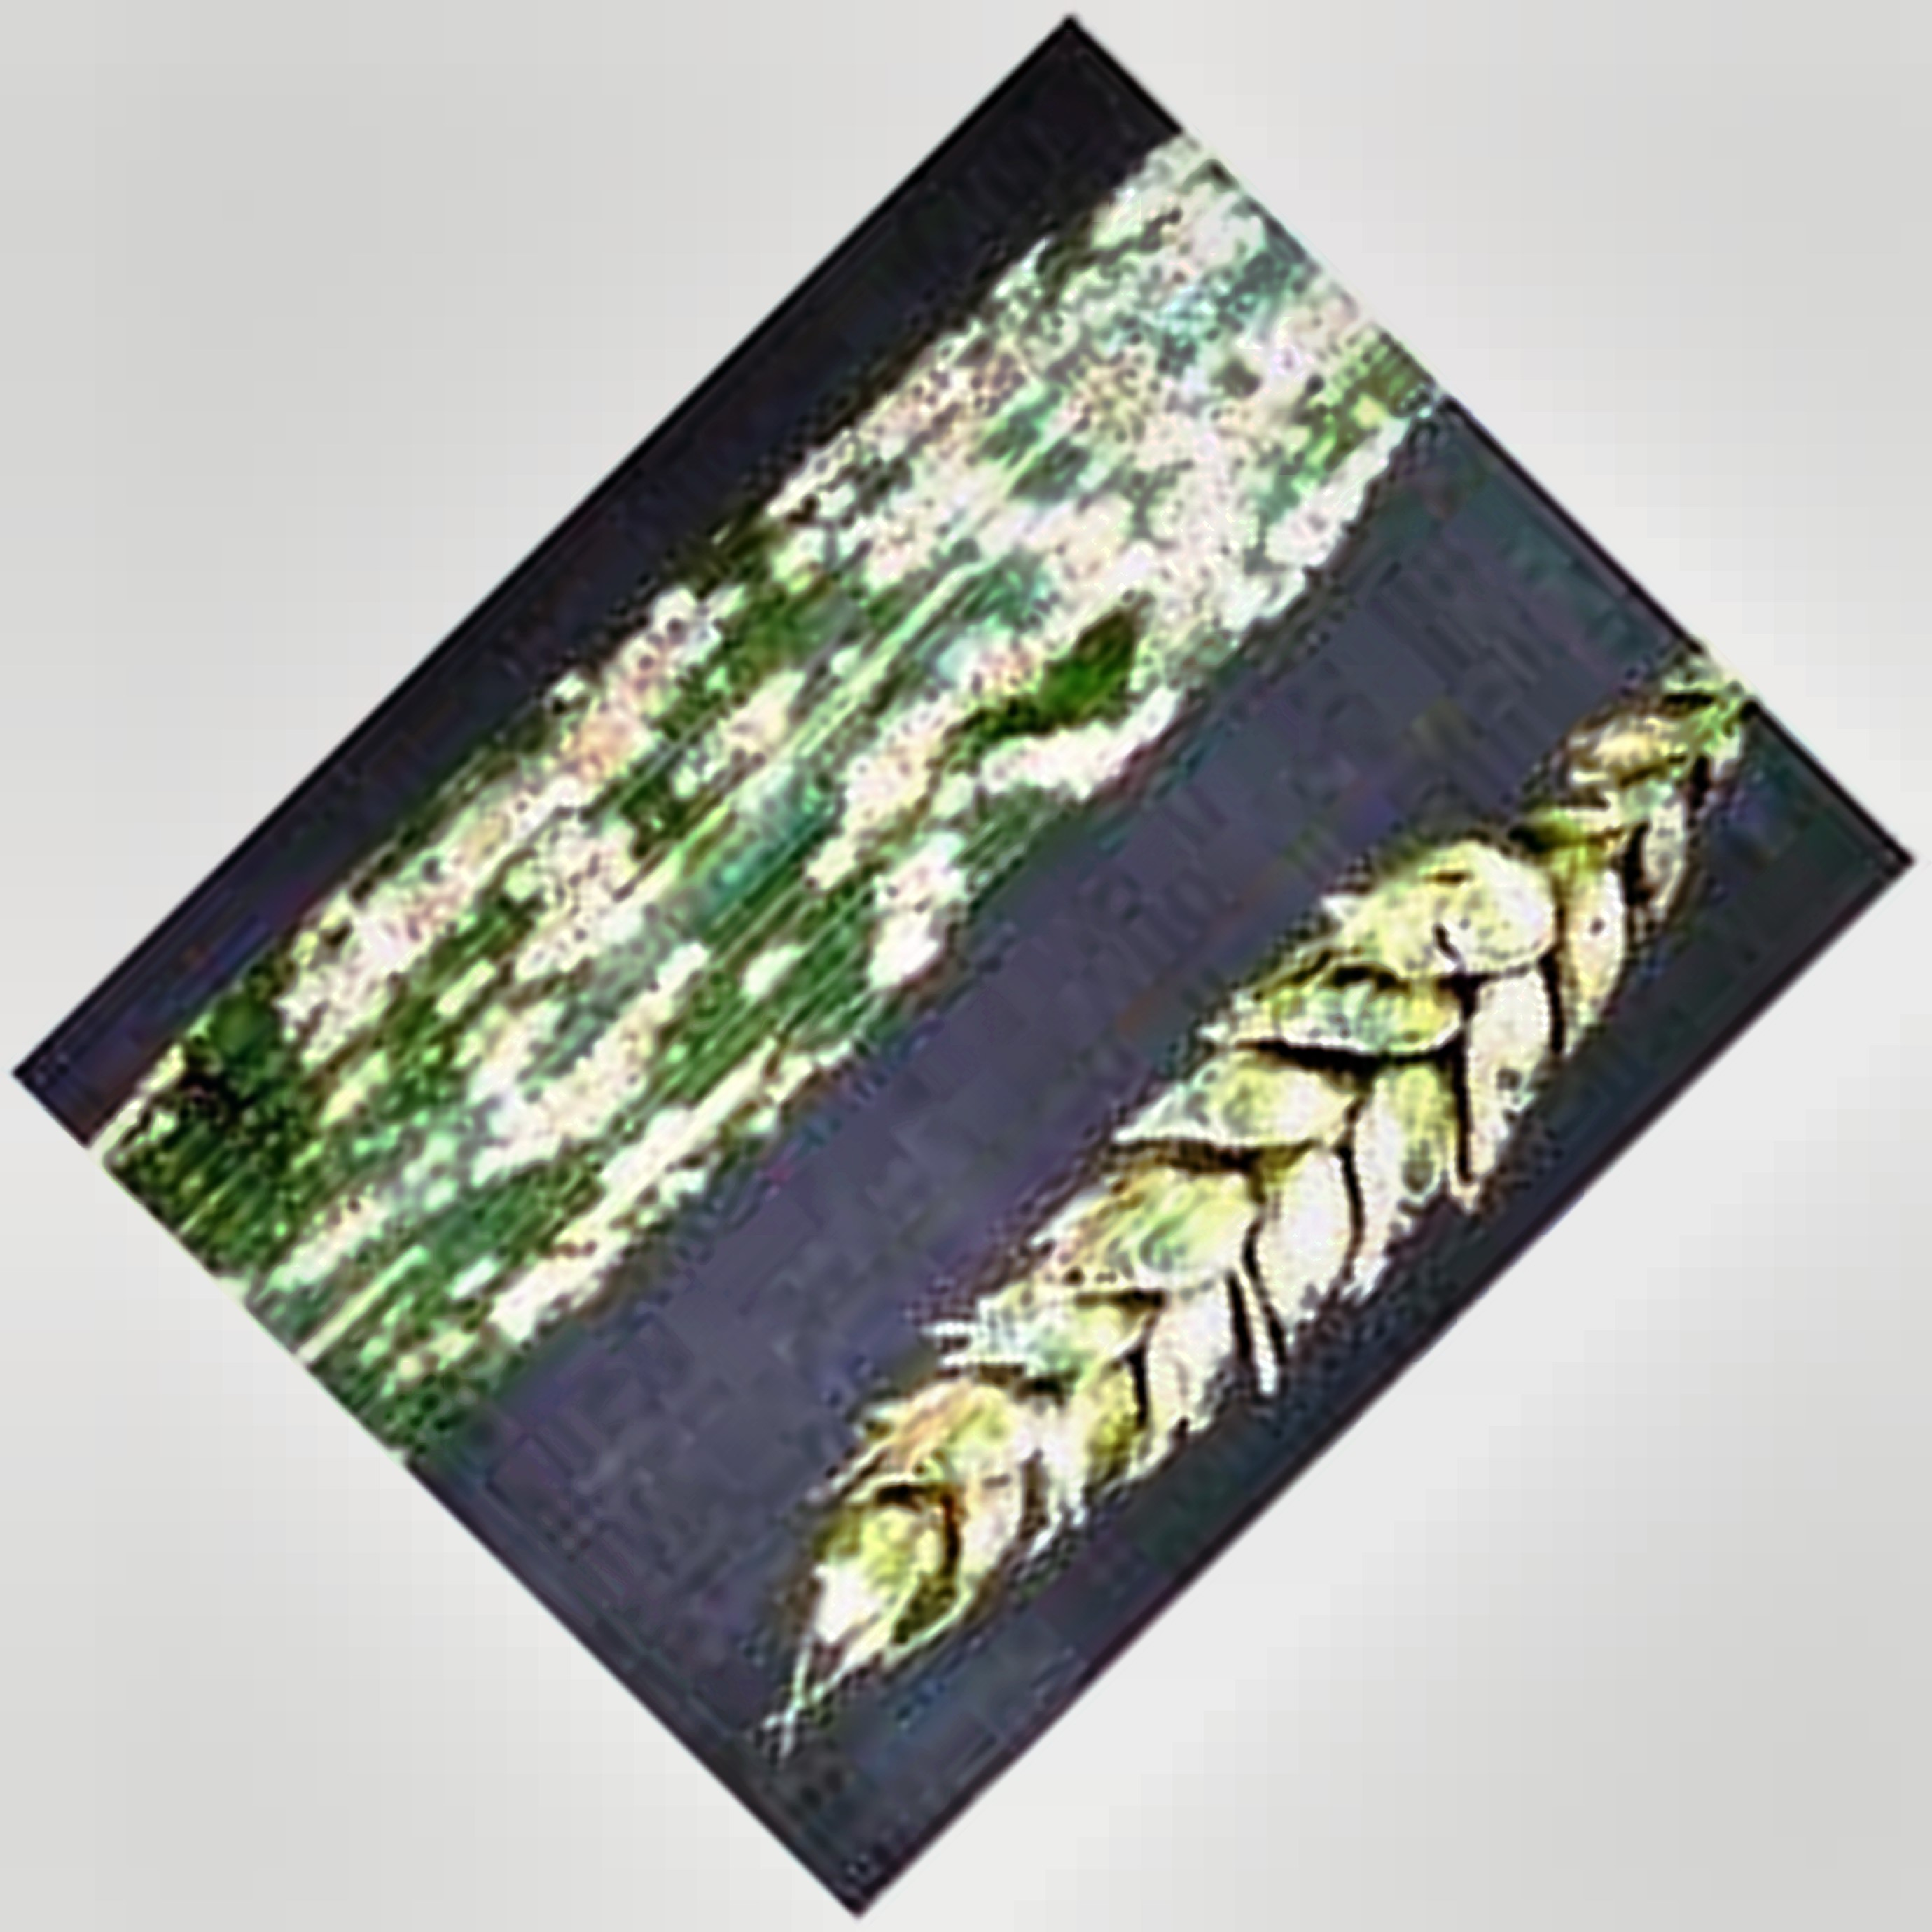Powdery Mildew: (143, 205, 1330, 1299)
